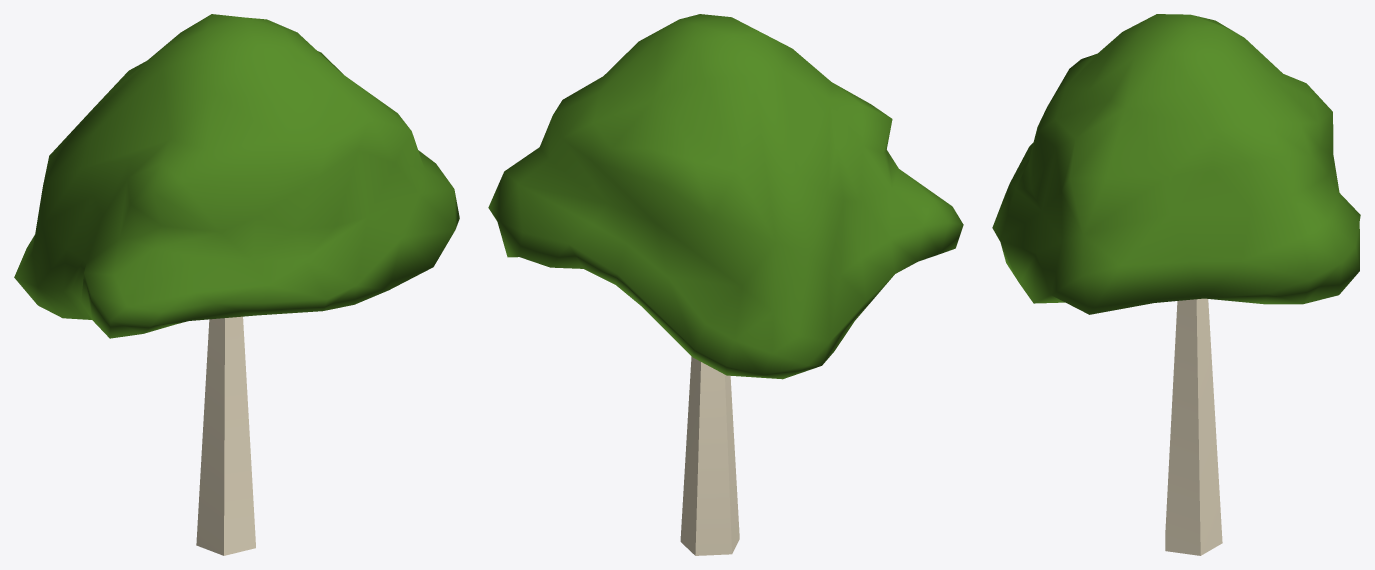
The model's file is Tree_20_Spring.fbx.
The picture shows the model from 3 angles, left to right: view 1: azimuth 30°, elevation 25°; view 2: azimuth 150°, elevation 25°; view 3: azimuth 270°, elevation 25°; orthographic projection.
Parts seen in each view (by area): view 1: Tree_20_p2_Spring, Tree_20_p1_Spring; view 2: Tree_20_p2_Spring, Tree_20_p1_Spring; view 3: Tree_20_p2_Spring, Tree_20_p1_Spring.
Boxes of the visible parts, <box> form: Tree_20_p2_Spring: <box>14,14,459,338</box>; Tree_20_p1_Spring: <box>196,316,255,555</box>; Tree_20_p2_Spring: <box>488,14,963,379</box>; Tree_20_p1_Spring: <box>680,356,739,555</box>; Tree_20_p2_Spring: <box>992,14,1360,314</box>; Tree_20_p1_Spring: <box>1165,298,1222,555</box>.
Size of the model in its own units: 331 by 446 by 285.
